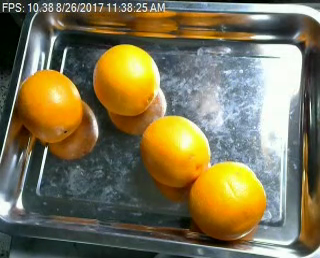Orange: (189, 159, 267, 239), (140, 114, 212, 188), (92, 44, 160, 116), (17, 70, 83, 142)
